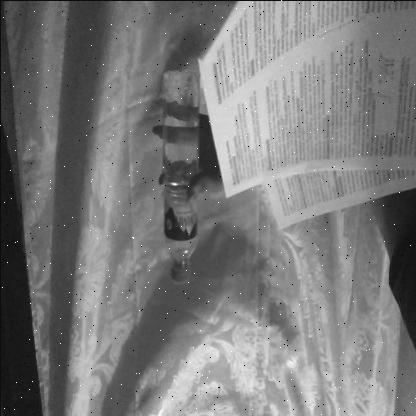Plastic Bottle: (146, 45, 210, 299)
